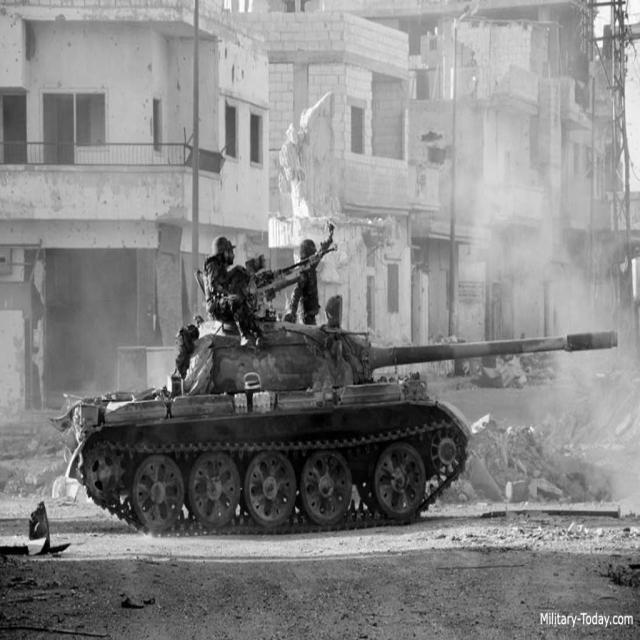Tank: (58, 294, 626, 546)
